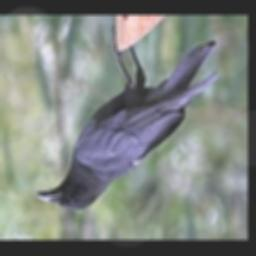Crow: (37, 25, 221, 211)
